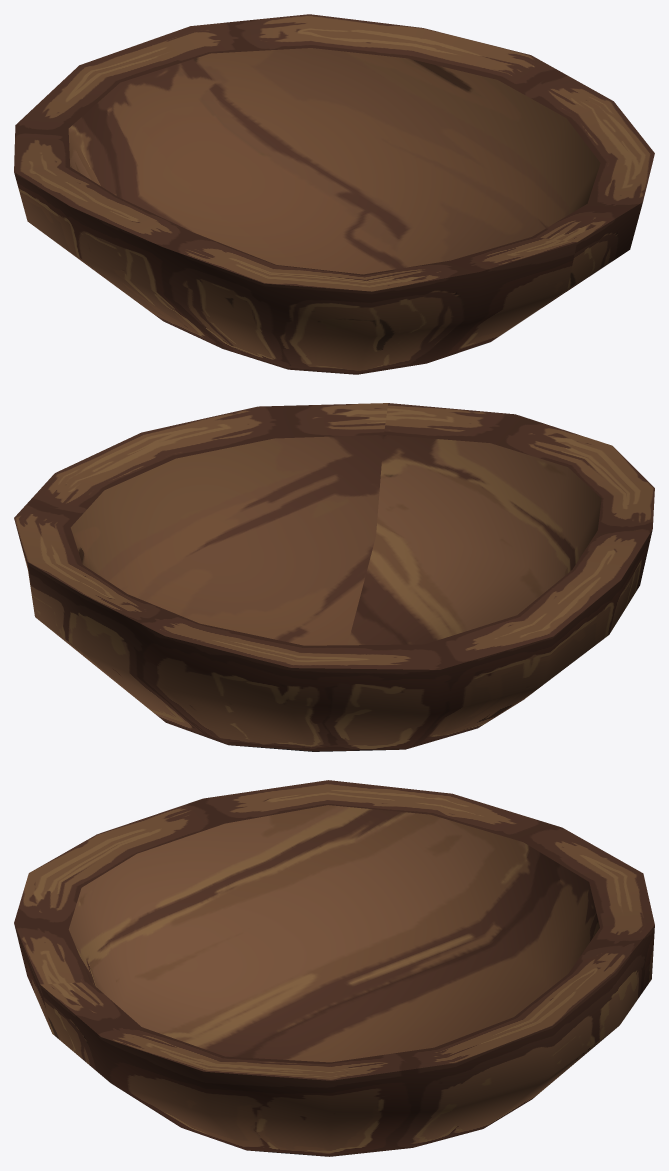
Rendered from SM_PROP_bowl_interior_02.fbx.
The picture shows the model from 3 angles, top to bottom: view 1: azimuth 30°, elevation 25°; view 2: azimuth 150°, elevation 25°; view 3: azimuth 270°, elevation 25°; orthographic projection. The views are drawn at different scales.
Visible parts, largest first — view 1: SM_PROP_bowl_interior_02; view 2: SM_PROP_bowl_interior_02; view 3: SM_PROP_bowl_interior_02.
Part boxes in pixels (x1,y1,x2,y2): SM_PROP_bowl_interior_02: (14, 14, 654, 374); SM_PROP_bowl_interior_02: (14, 403, 654, 751); SM_PROP_bowl_interior_02: (14, 780, 654, 1156).
Bounding box in the file's own units: 38.9 × 10.99 × 38.82.
